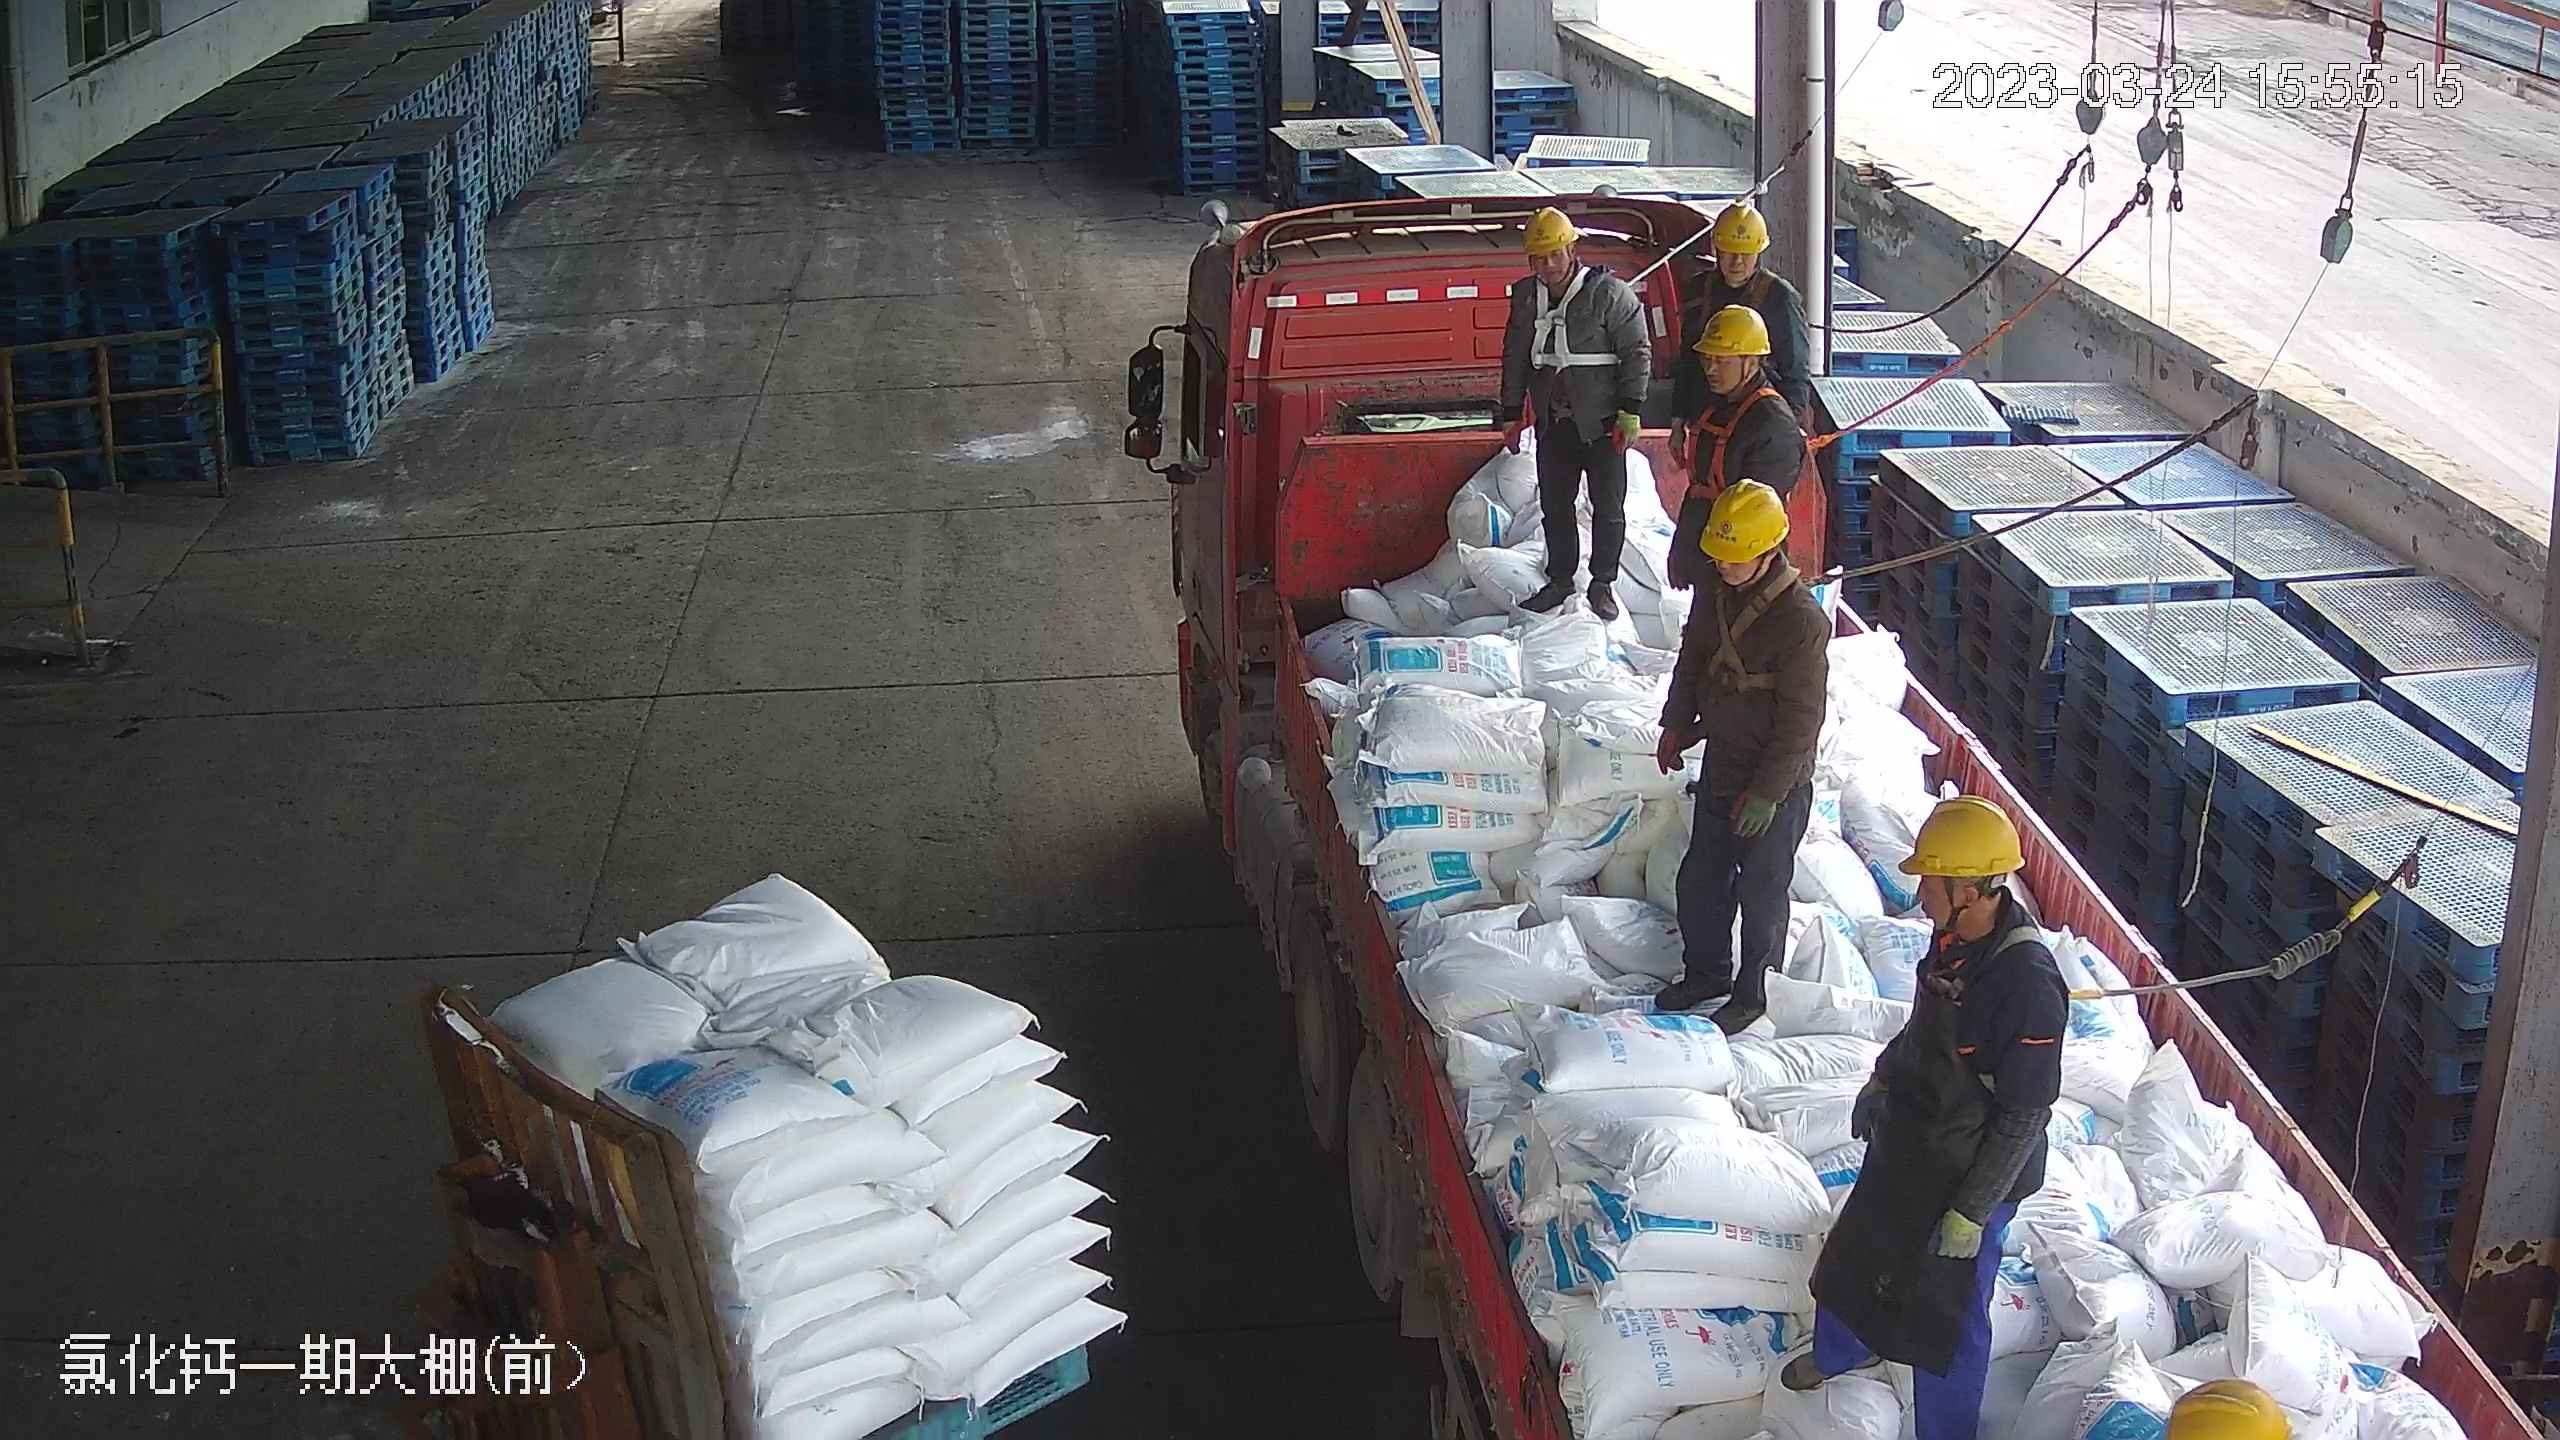belt: (1692, 383, 1833, 494), (1696, 555, 1842, 656), (1923, 900, 2058, 1008), (1524, 270, 1612, 372), (1697, 256, 1786, 318)
head: (1883, 793, 2063, 1017), (1675, 475, 1826, 641), (1682, 300, 1811, 455), (1508, 205, 1633, 326), (1685, 202, 1800, 310)
helmet: (1896, 793, 2020, 878), (2160, 1373, 2293, 1440), (1693, 478, 1793, 562), (1693, 301, 1773, 356), (1709, 201, 1769, 252), (1518, 205, 1577, 254)
people: (1794, 795, 2064, 1429), (1654, 475, 1832, 1034), (1495, 205, 1648, 618)
truck: (1102, 159, 2541, 1440)
